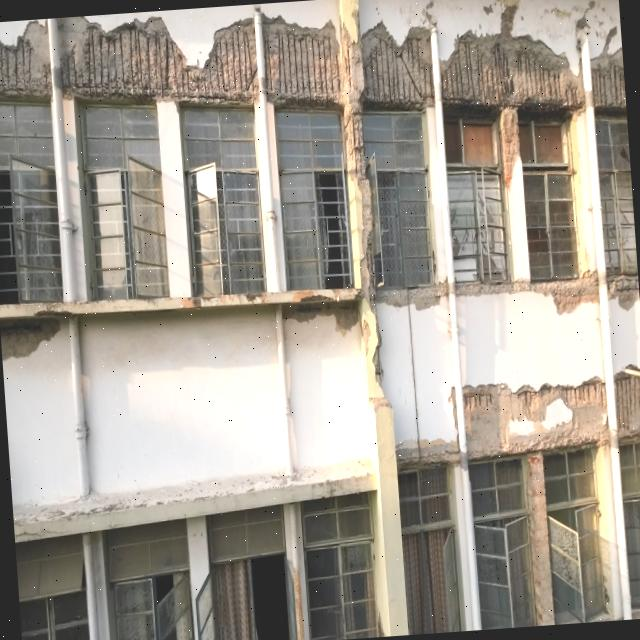spalling: (336, 0, 408, 635), (61, 18, 257, 103), (464, 379, 608, 459), (442, 30, 583, 109), (264, 16, 339, 106), (97, 17, 183, 95), (457, 272, 598, 313), (365, 35, 432, 108), (526, 451, 554, 625), (0, 39, 50, 97), (0, 37, 48, 94), (284, 302, 358, 336), (0, 321, 59, 360), (378, 282, 447, 308), (616, 373, 640, 439), (592, 63, 626, 109), (419, 438, 459, 462), (608, 275, 638, 298), (82, 31, 94, 87)
